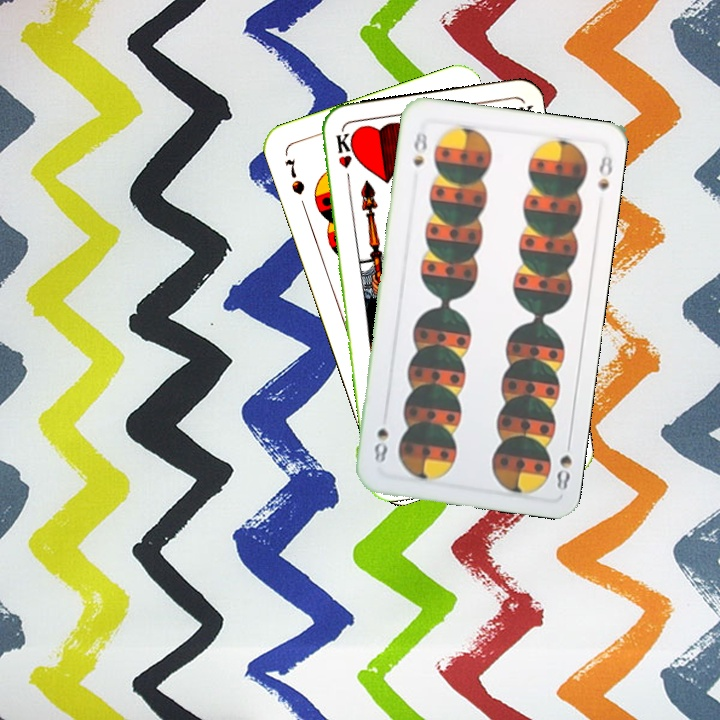HK: (332, 128, 354, 188)
S7: (281, 155, 307, 197)
S8: (553, 434, 574, 493), (409, 127, 430, 169)
